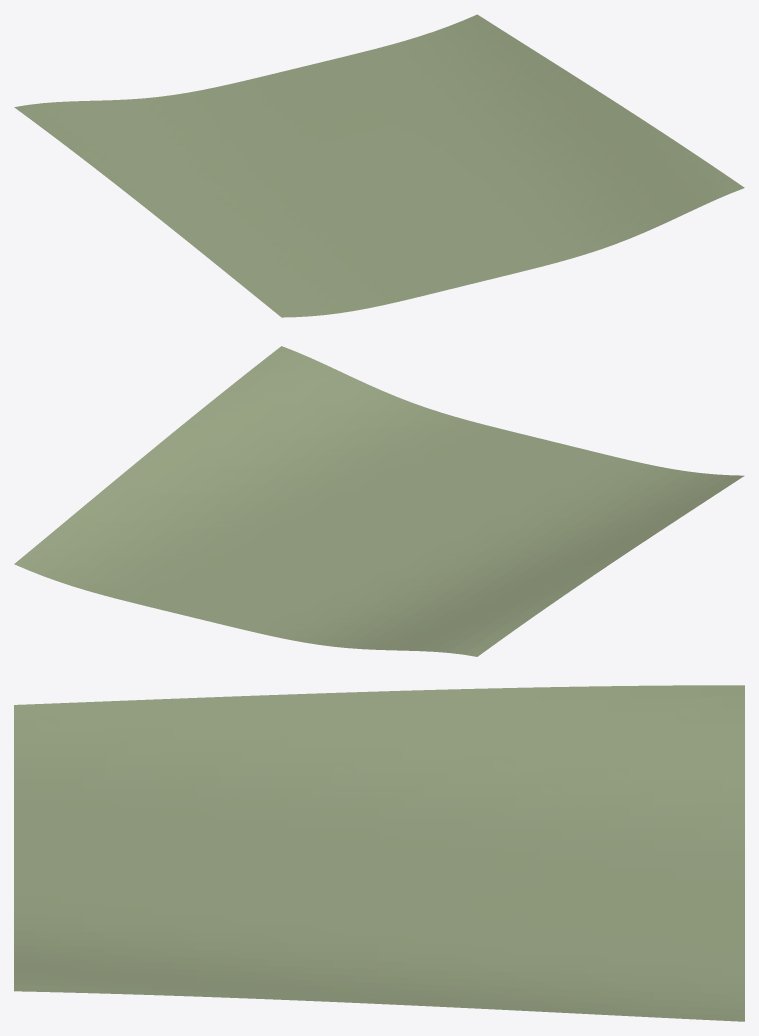
Rendered from desert-8-4.glb.
The picture shows the model from 3 angles, top to bottom: view 1: azimuth 30°, elevation 25°; view 2: azimuth 150°, elevation 25°; view 3: azimuth 270°, elevation 25°; orthographic projection. The views are drawn at different scales.
Parts seen in each view (by area): view 1: desert-8-4; view 2: desert-8-4; view 3: desert-8-4.
Part boxes in pixels (x1,y1,x2,y2): desert-8-4: [14, 14, 744, 317]; desert-8-4: [14, 346, 744, 656]; desert-8-4: [14, 685, 744, 1021].
Bounding box in the file's own units: 512 × 33.87 × 512.
